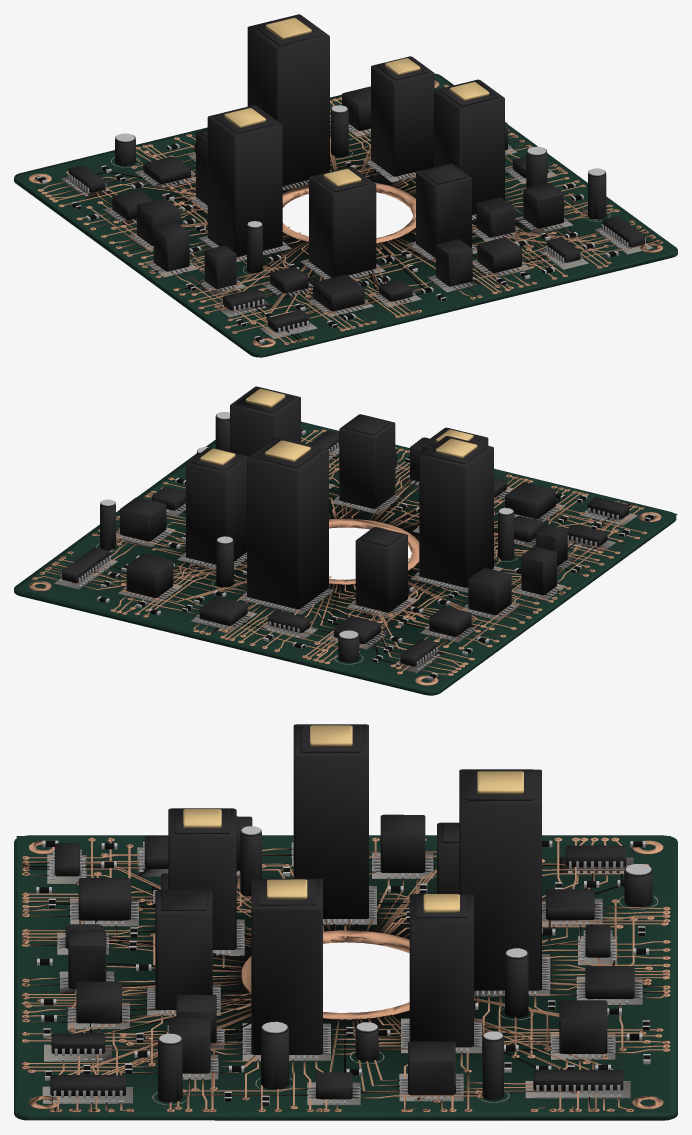
Rendered from silicon.glb.
The picture shows the model from 3 angles, top to bottom: view 1: azimuth 30°, elevation 25°; view 2: azimuth 150°, elevation 25°; view 3: azimuth 270°, elevation 25°; orthographic projection. The views are drawn at different scales.
Visible parts, largest first — view 1: silicon_epoxy, silicon_mask, silicon_copper, silicon_solder, silicon_silk, silicon_sleeve, silicon_brass, silicon_steel; view 2: silicon_epoxy, silicon_mask, silicon_copper, silicon_solder, silicon_silk, silicon_sleeve, silicon_brass, silicon_steel; view 3: silicon_epoxy, silicon_mask, silicon_copper, silicon_solder, silicon_silk, silicon_sleeve, silicon_brass, silicon_steel.
Part boxes in pixels (x1,y1,x2,y2): silicon_epoxy: (38,14,644,342); silicon_mask: (14,73,677,357); silicon_copper: (28,80,663,347); silicon_solder: (37,106,647,343); silicon_silk: (60,126,652,338); silicon_sleeve: (115,107,606,273); silicon_brass: (224,18,489,187); silicon_steel: (116,105,605,227); silicon_epoxy: (62,386,653,679); silicon_mask: (14,421,677,695); silicon_copper: (28,429,661,685); silicon_solder: (58,430,655,680); silicon_silk: (53,447,637,673); silicon_sleeve: (100,414,514,662); silicon_brass: (200,389,477,465); silicon_steel: (101,412,513,638); silicon_epoxy: (39,724,650,1105); silicon_mask: (14,835,677,1120); silicon_copper: (21,837,670,1112); silicon_solder: (36,840,650,1105); silicon_silk: (42,842,658,1105); silicon_sleeve: (158,829,652,1102); silicon_brass: (183,725,523,912); silicon_steel: (159,826,651,1043).
Size of the model in its own units: 18.04 by 6 by 18.04.
